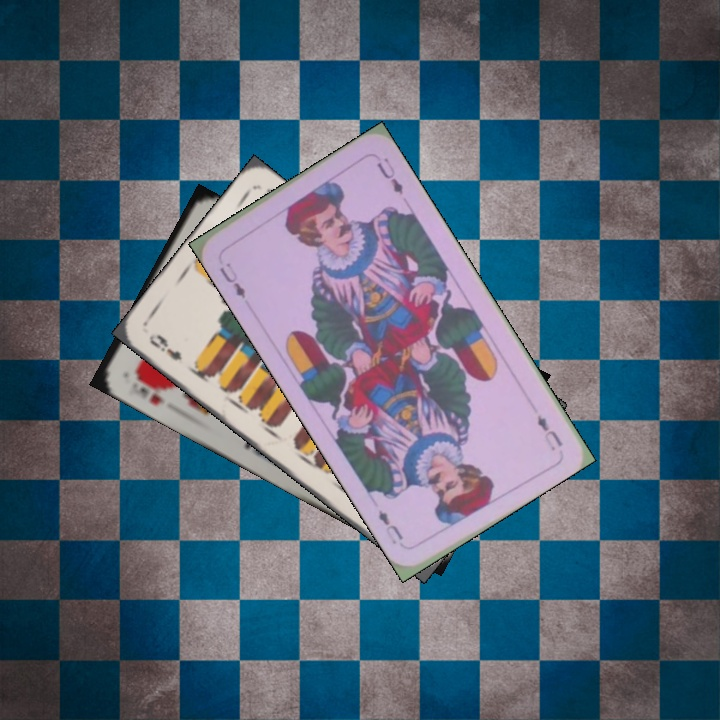E9: (144, 330, 185, 363)
EU: (215, 258, 248, 301), (533, 411, 566, 454)
HK: (129, 368, 169, 408)
